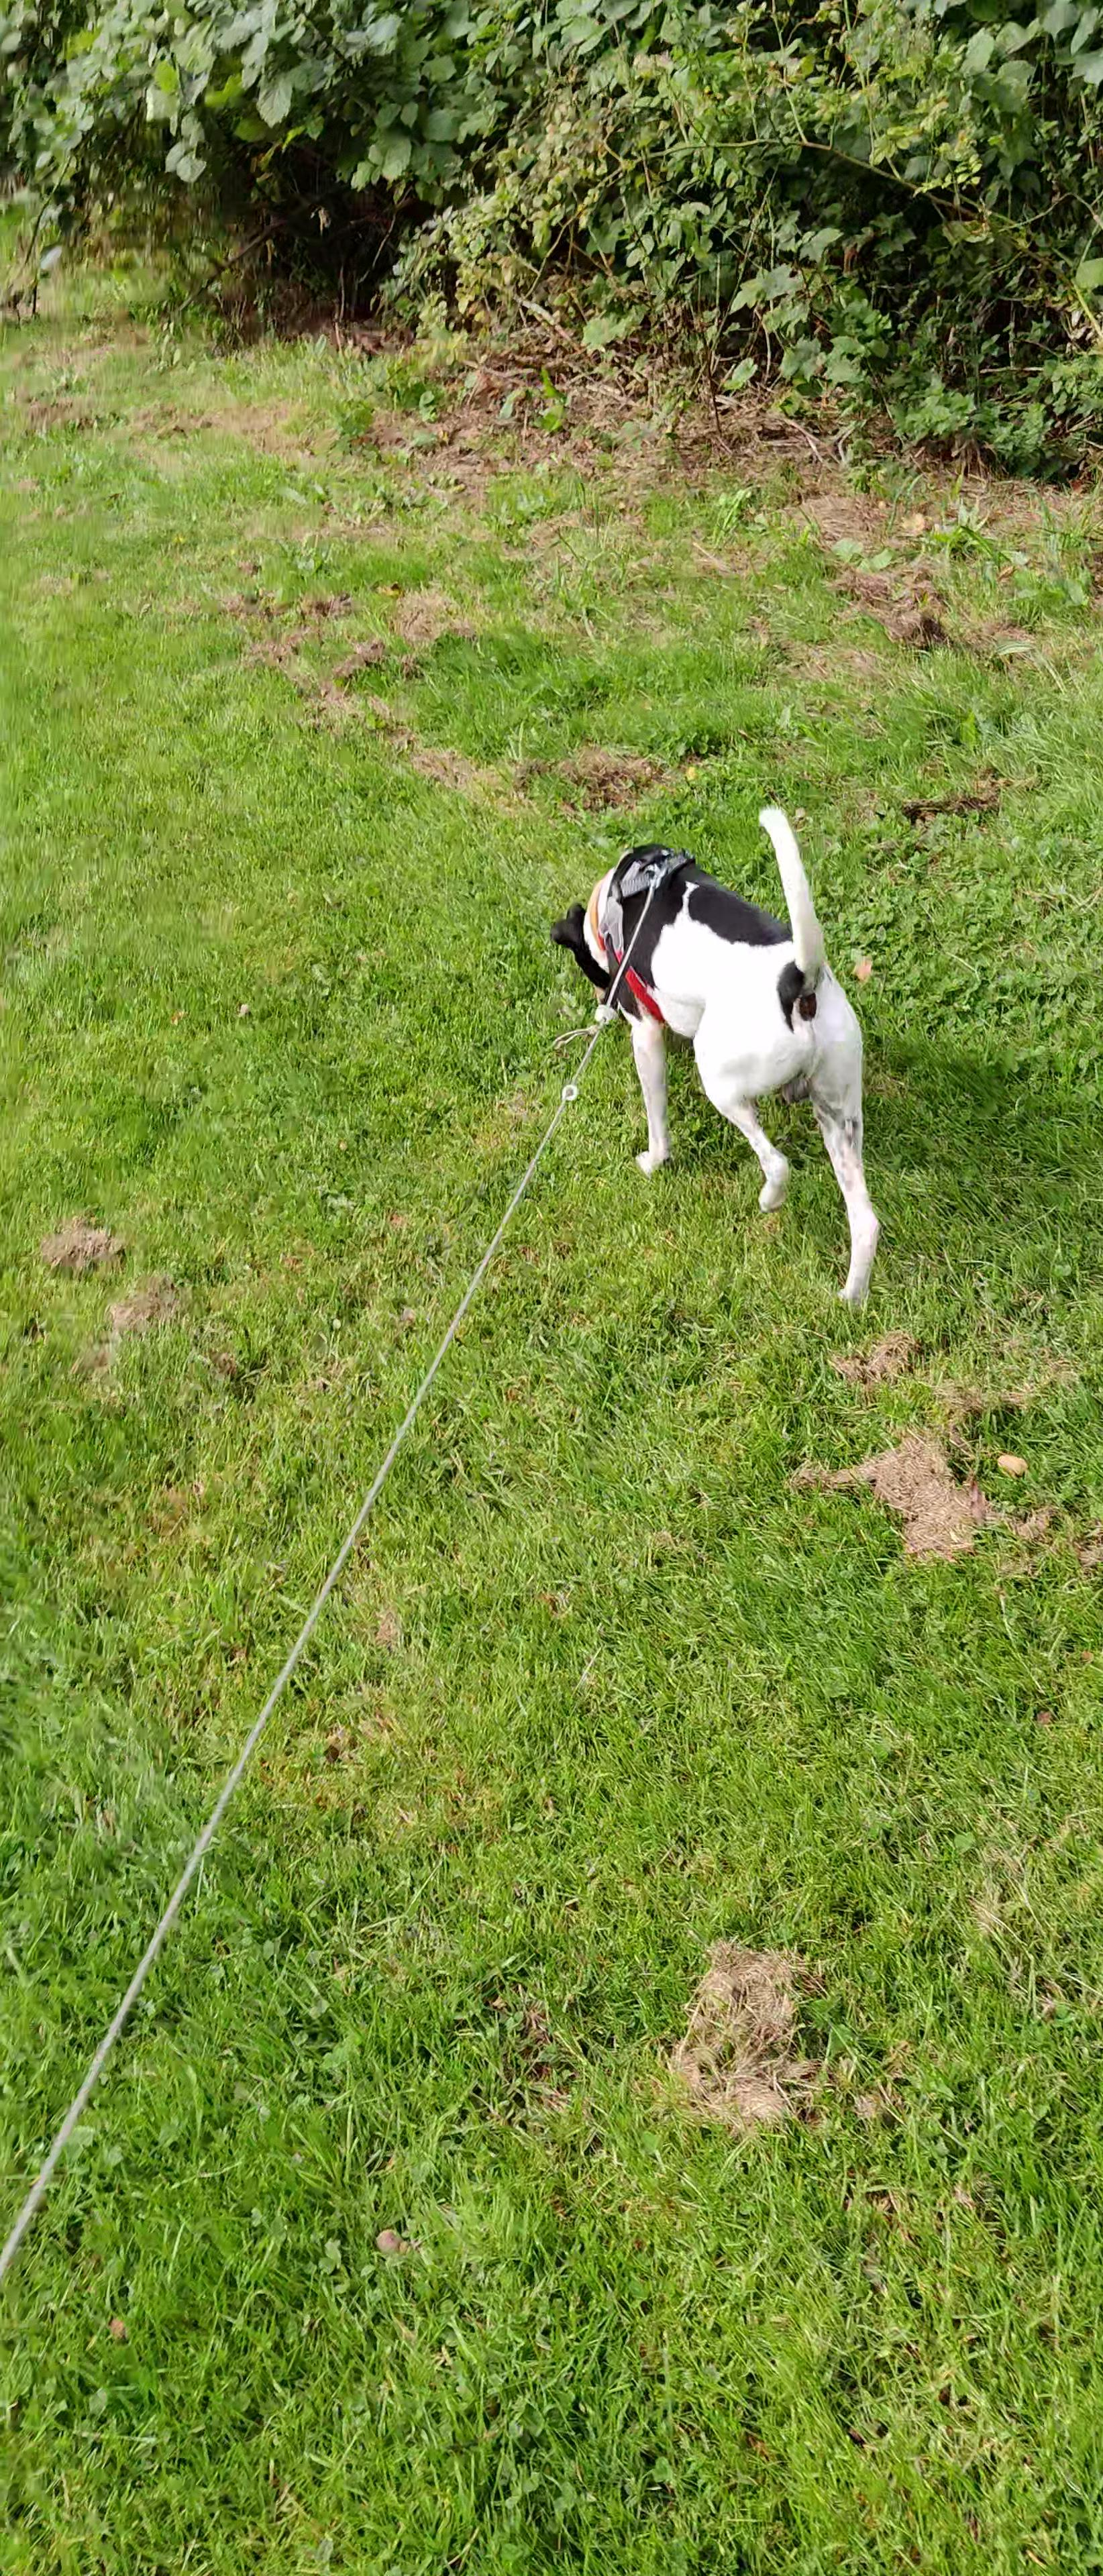Dog: (538, 803, 899, 1309)
